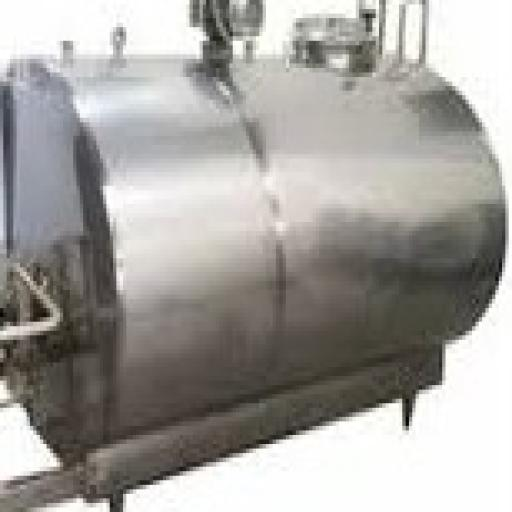silo: (0, 0, 505, 507)
